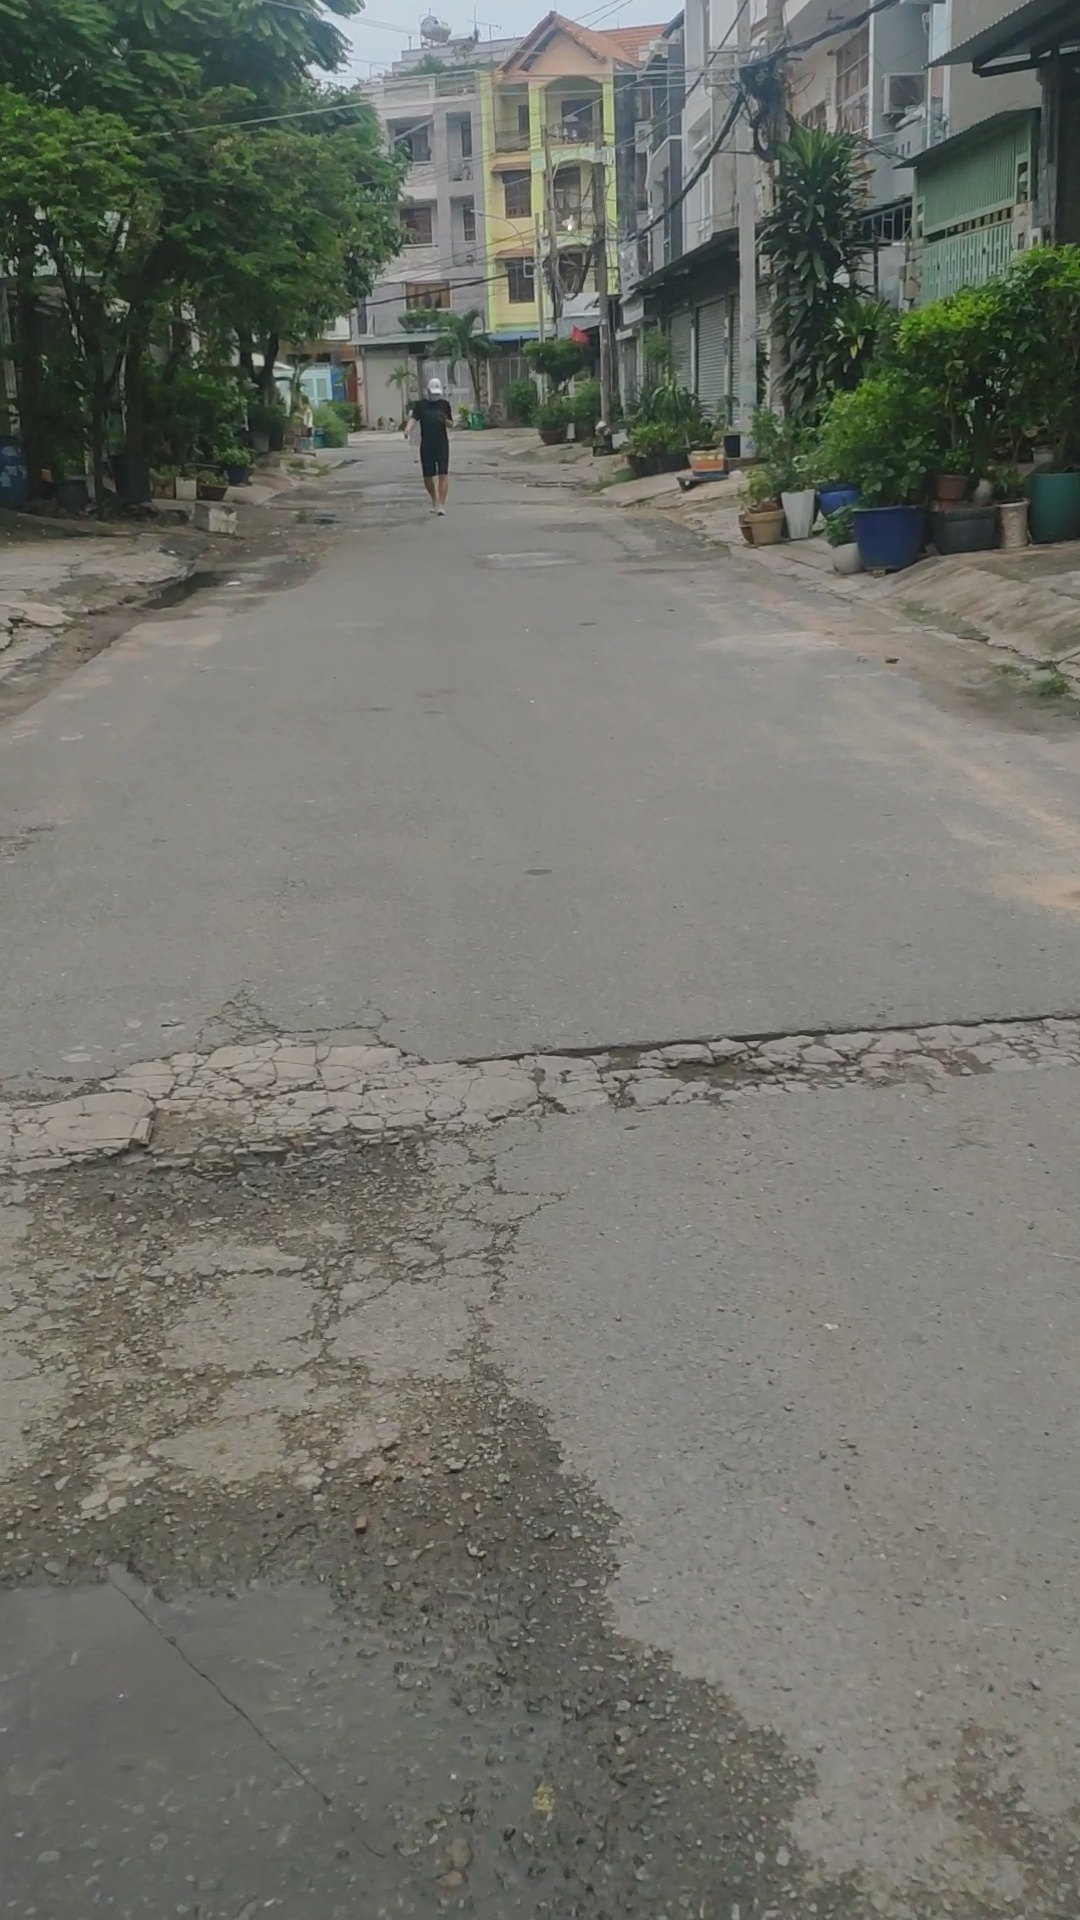hole: (1, 1571, 571, 1916), (1, 1105, 455, 1283), (549, 1019, 905, 1106)
